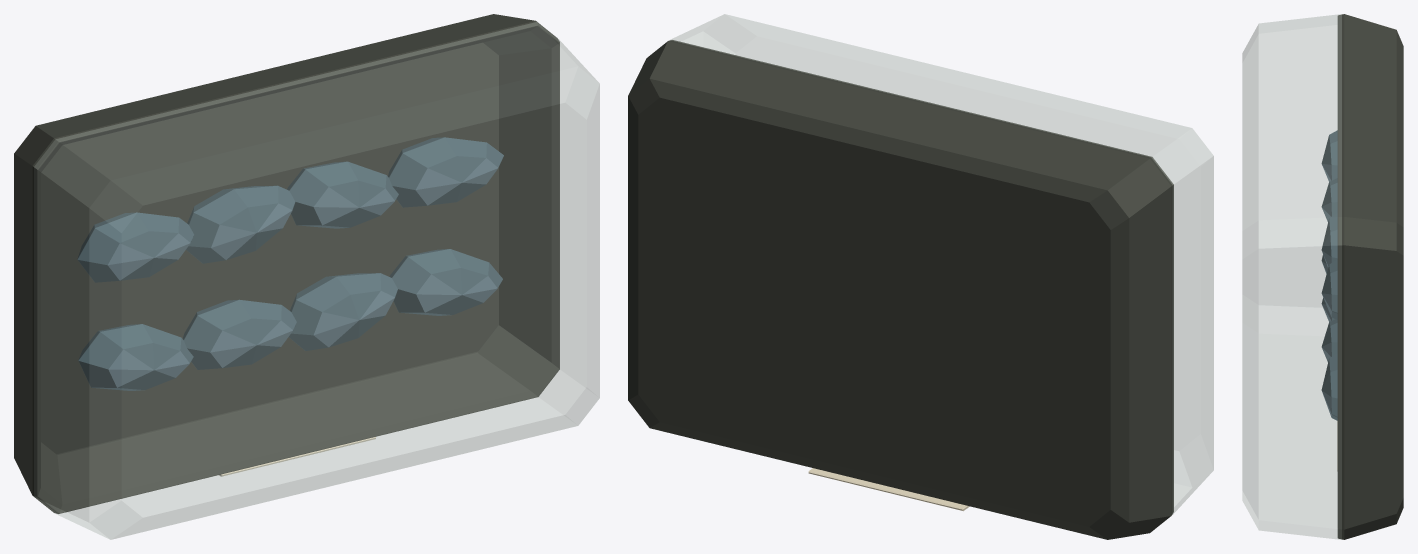
Rendered from mussels.glb.
The picture shows the model from 3 angles, left to right: view 1: azimuth 30°, elevation 25°; view 2: azimuth 150°, elevation 25°; view 3: azimuth 270°, elevation 25°; orthographic projection. The views are drawn at different scales.
Visible parts, largest first — view 1: mussels; view 2: mussels; view 3: mussels.
Part boxes in pixels (x1,y1,x2,y2): mussels: (14,14,599,539); mussels: (628,14,1213,539); mussels: (1242,14,1403,539).
Size of the model in its own units: 0.22 by 0.152 by 0.068.
